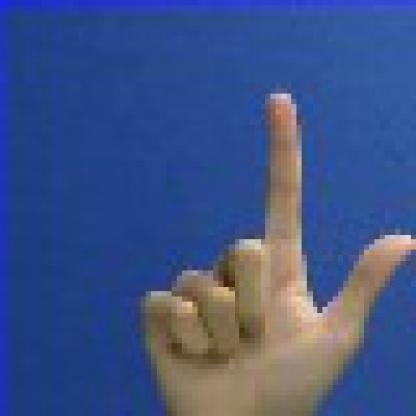seven: (88, 62, 411, 411)
